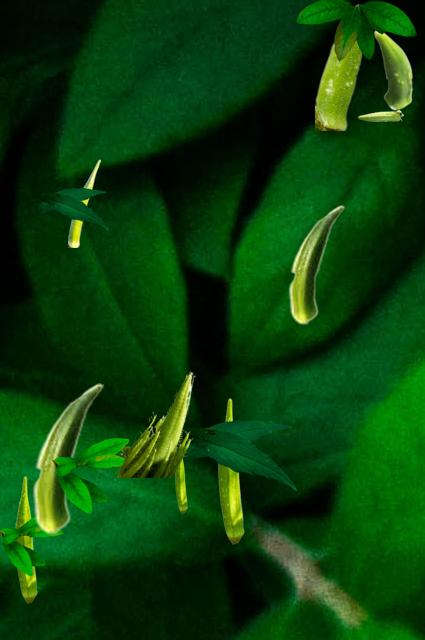okra: (32, 383, 102, 534), (116, 371, 194, 476), (288, 205, 343, 324), (315, 3, 362, 129), (218, 398, 243, 543), (375, 31, 412, 109), (68, 159, 99, 246), (15, 476, 36, 602), (175, 459, 186, 512), (358, 110, 402, 120)
